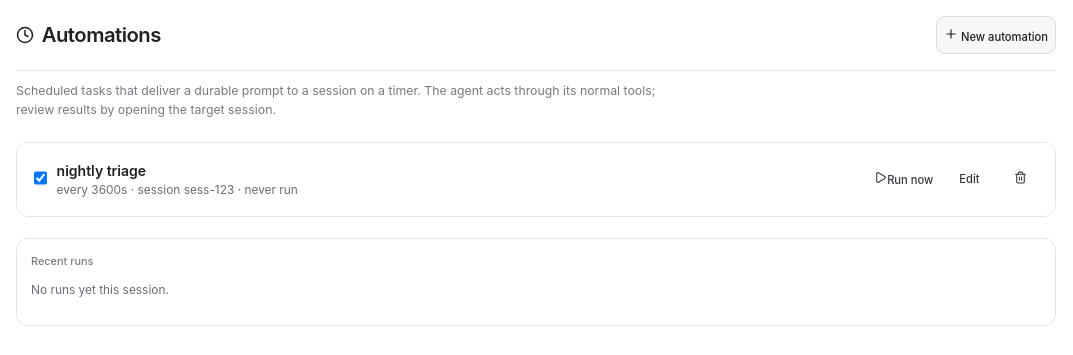
Test: Automations panel › runs an automation now through automationRunNow and shows it in history
expect the text "nightly triage" is shown: met, box top-left (57, 162), bottom-right (146, 179)
What coordinates should you click on to do the following:
click the button with aria-label "run nightly triage now"
I would click on:
 (904, 179)
Its box is top-left (867, 157), bottom-right (940, 201).
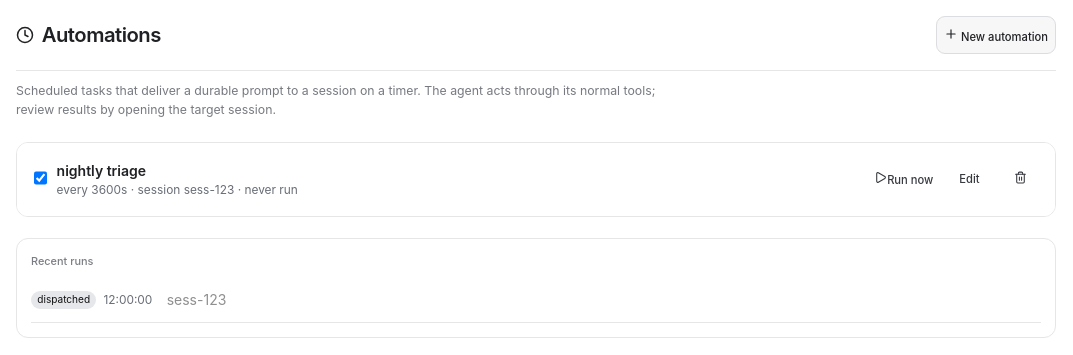
expect the text "dispatched" is shown: met, box top-left (31, 291), bottom-right (96, 308)
